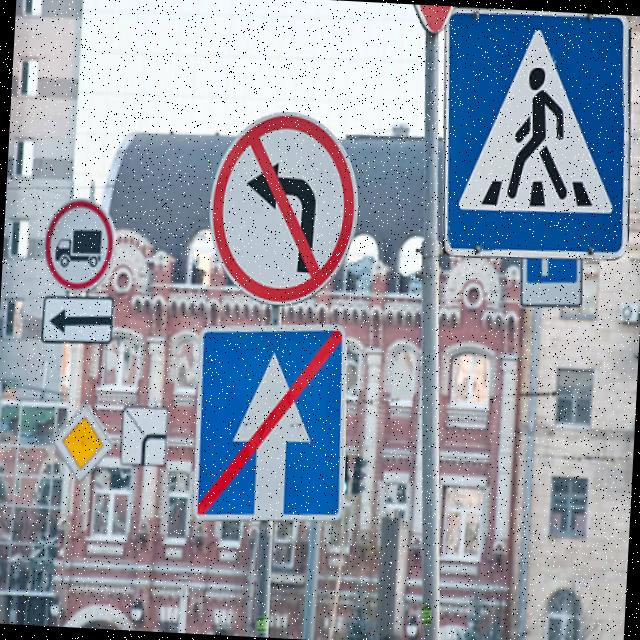crosswalk: (436, 6, 640, 273)
do_not_enter: (29, 189, 134, 302)
